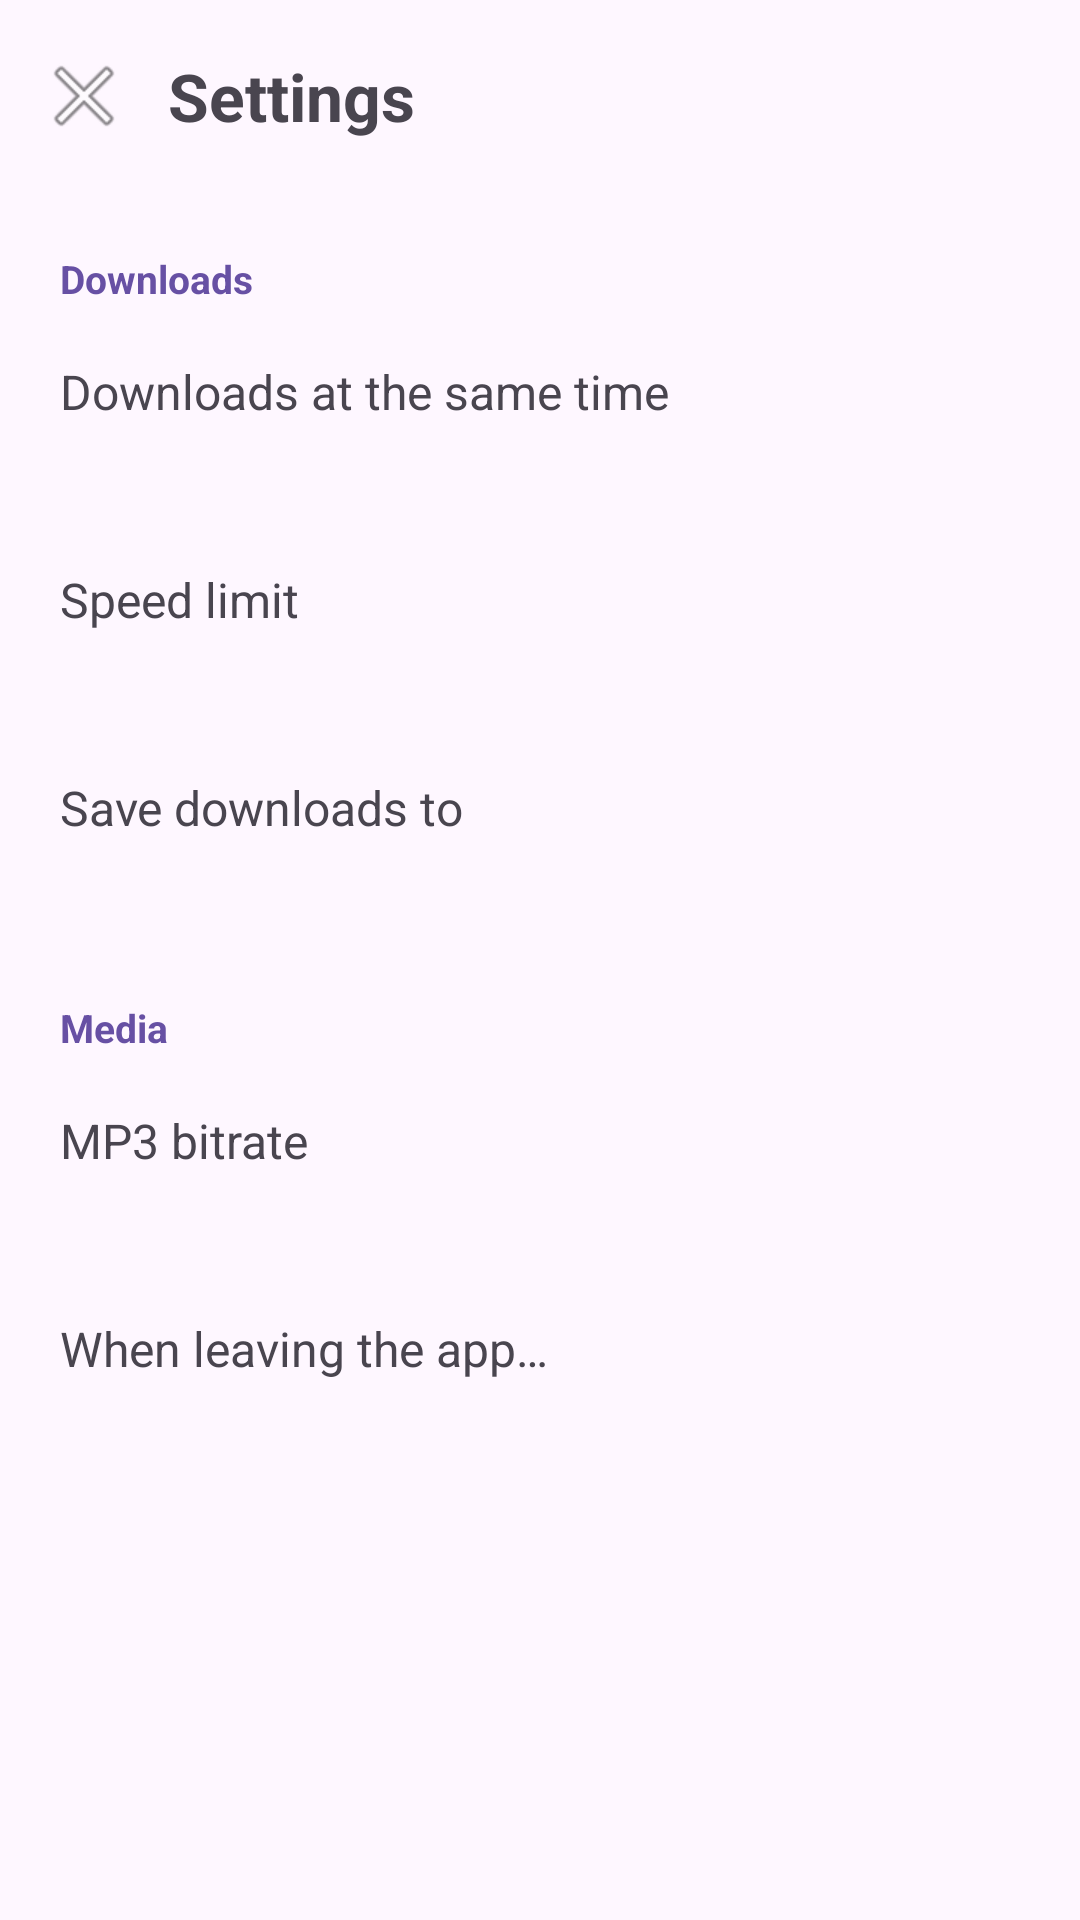

Where icons sit on this 1080×1920 app screen, as region(x1, y1, x2, y2):
Close: region(54, 66, 114, 126)
